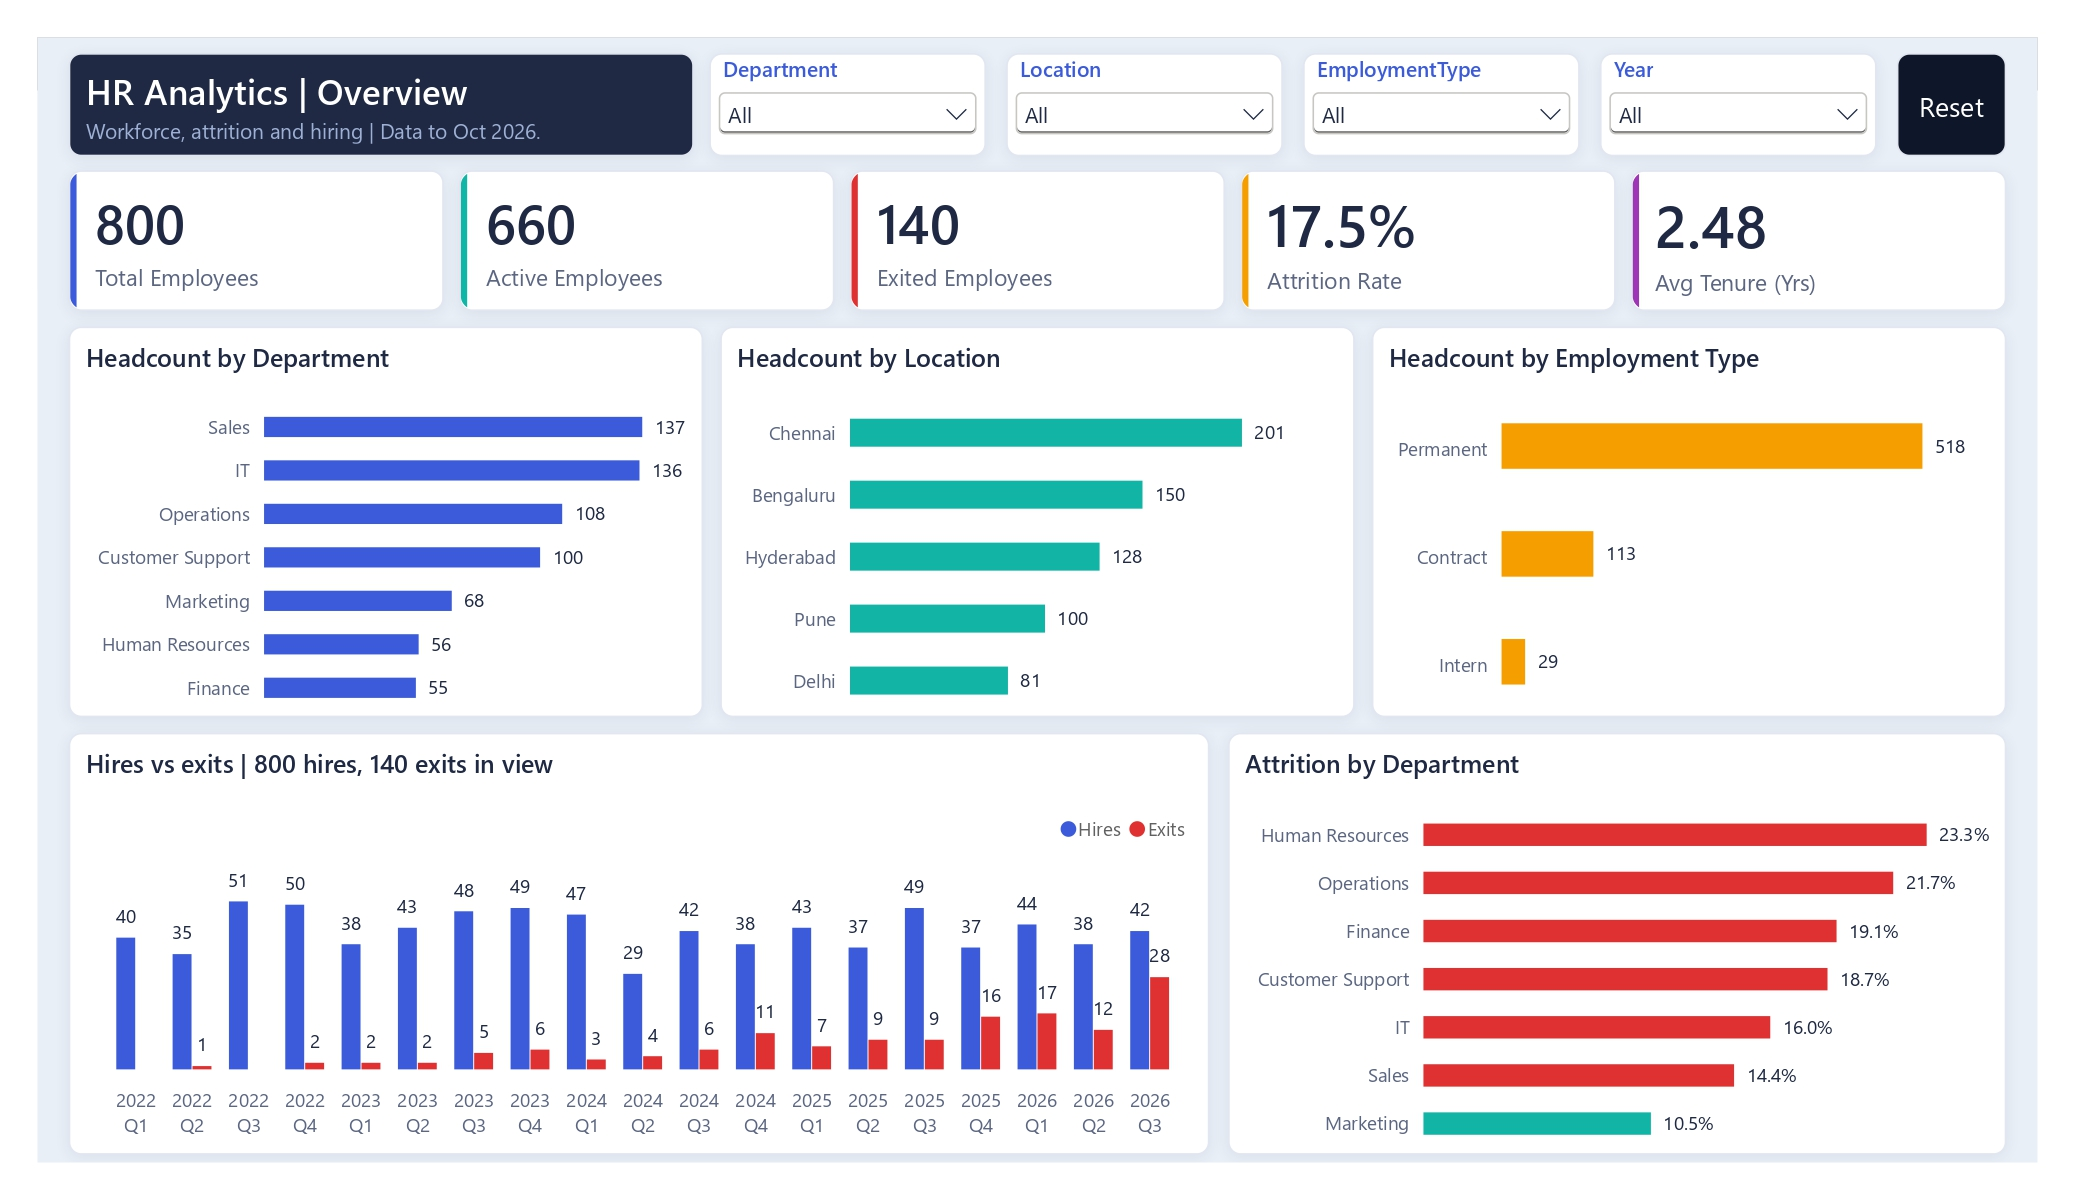

What the dashboard file says about the page in this screenshot:
{"tool":"powerbi","page":{"name":"Overview","canvas":[1280,720],"ordinal":0},"visuals":[{"type":"cardVisual","fields":{"Data":["Employees.Total Employees"]},"box":[20,85,240,90],"z":0},{"type":"cardVisual","fields":{"Data":["Employees.Active Employees"]},"box":[270,85,240,90],"z":1000},{"type":"cardVisual","fields":{"Data":["Employees.Exited Employees"]},"box":[520,85,240,90],"z":2000},{"type":"cardVisual","fields":{"Data":["Employees.Attrition Rate"]},"box":[770,85,240,90],"z":3000},{"type":"cardVisual","fields":{"Data":["Attendance.Avg Tenure (Yrs)"]},"box":[1020,85,240,90],"z":4000},{"type":"clusteredBarChart","title":"Headcount by Department","fields":{"Category":["Employees.Department"],"Y":["Employees.Active Employees"]},"box":[20,185,406,250],"z":5000},{"type":"clusteredBarChart","title":"Headcount by Employment Type","fields":{"Category":["Employees.EmploymentType"],"Y":["Employees.Active Employees"]},"box":[854,185,406,250],"z":6000},{"type":"clusteredBarChart","title":"Headcount by Location","fields":{"Category":["Employees.Location"],"Y":["Employees.Active Employees"]},"box":[437,185,406,250],"z":7000},{"type":"clusteredColumnChart","fields":{"Category":["DateDimension.Year Quarter"],"Y":["Employees.Total Employees","Employees.Exits by Date"]},"box":[20,445,730,270],"z":8000},{"type":"clusteredBarChart","title":"Attrition by Department","fields":{"Category":["Employees.Department"],"Y":["Employees.Attrition Rate"]},"box":[762,445,498,270],"z":9000},{"type":"textbox","title":"HR Analytics | Overview","box":[20,10,400,66],"z":10000},{"type":"slicer","fields":{"Values":["Employees.Department"]},"box":[430,10,177,66],"z":11000},{"type":"slicer","fields":{"Values":["Employees.Location"]},"box":[620,10,177,66],"z":12000},{"type":"slicer","fields":{"Values":["Employees.EmploymentType"]},"box":[810,10,177,66],"z":13000},{"type":"slicer","fields":{"Values":["Year Table.Value"]},"box":[1000,10,177,66],"z":14000},{"type":"actionButton","box":[1190,10.5,70,66],"z":15000}]}

Visuals, with their boxes on the page's 1280x720 design canvas (x1, y1, x2, y2). These are canvas units, not pixel positions in the 2075x1200 screenshot, which may show the page scaled, cropped or inside an application window:
cardVisual - Employees.Total Employees: [x1=20, y1=85, x2=260, y2=175]
cardVisual - Employees.Active Employees: [x1=270, y1=85, x2=510, y2=175]
cardVisual - Employees.Exited Employees: [x1=520, y1=85, x2=760, y2=175]
cardVisual - Employees.Attrition Rate: [x1=770, y1=85, x2=1010, y2=175]
cardVisual - Attendance.Avg Tenure (Yrs): [x1=1020, y1=85, x2=1260, y2=175]
"Headcount by Department" clusteredBarChart: [x1=20, y1=185, x2=426, y2=435]
"Headcount by Employment Type" clusteredBarChart: [x1=854, y1=185, x2=1260, y2=435]
"Headcount by Location" clusteredBarChart: [x1=437, y1=185, x2=843, y2=435]
clusteredColumnChart - DateDimension.Year Quarter x Employees.Total Employees: [x1=20, y1=445, x2=750, y2=715]
"Attrition by Department" clusteredBarChart: [x1=762, y1=445, x2=1260, y2=715]
"HR Analytics | Overview" textbox: [x1=20, y1=10, x2=420, y2=76]
slicer - Employees.Department: [x1=430, y1=10, x2=607, y2=76]
slicer - Employees.Location: [x1=620, y1=10, x2=797, y2=76]
slicer - Employees.EmploymentType: [x1=810, y1=10, x2=987, y2=76]
slicer - Year Table.Value: [x1=1000, y1=10, x2=1177, y2=76]
actionButton: [x1=1190, y1=10, x2=1260, y2=76]
